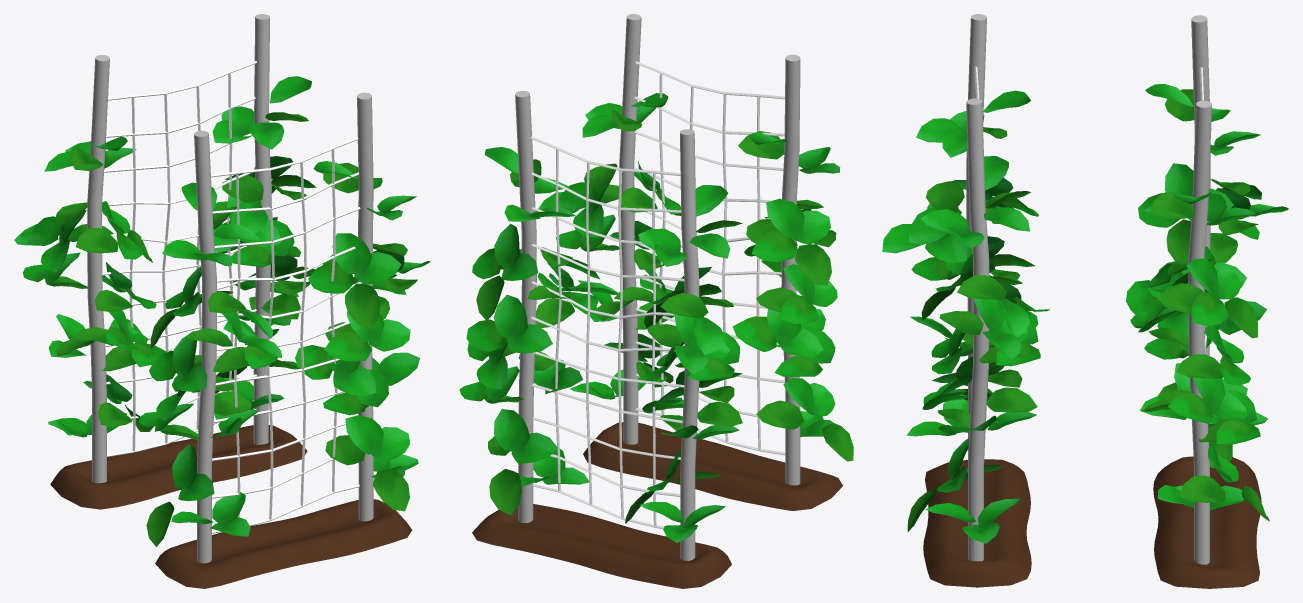
File: Cucumber3.fbx
3 views of the same model, side by side, from view 1: azimuth 30°, elevation 25°; view 2: azimuth 150°, elevation 25°; view 3: azimuth 270°, elevation 25° (orthographic). The views are drawn at different scales.
Visible parts, largest first — view 1: 3; view 2: 3; view 3: 3.
Boxes of the visible parts, x1=… form: 3: x1=14, y1=14, x2=430, y2=588; 3: x1=459, y1=14, x2=853, y2=588; 3: x1=882, y1=14, x2=1288, y2=588.
Size of the model in its own units: 340 by 470 by 372.
